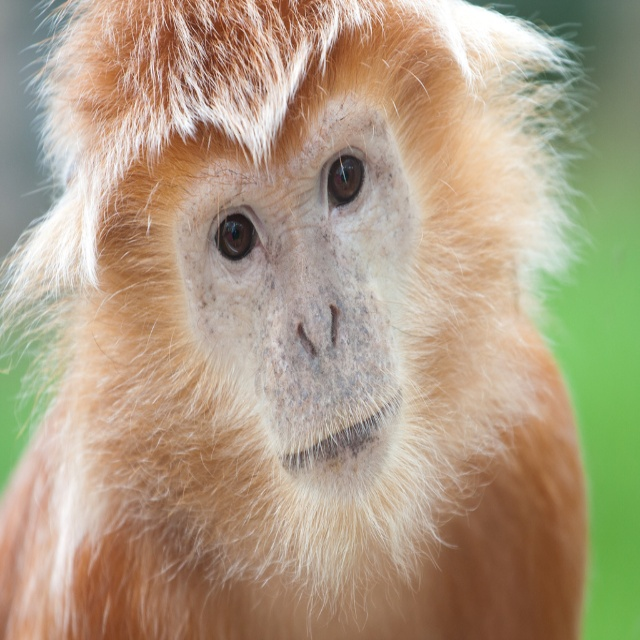Monkey: (0, 0, 597, 639)
